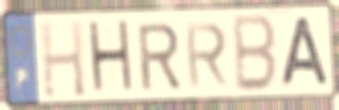A: (278, 15, 331, 89)
B: (232, 12, 279, 95)
H: (86, 17, 137, 98), (38, 19, 88, 100)
R: (135, 19, 184, 93), (183, 20, 230, 89)
